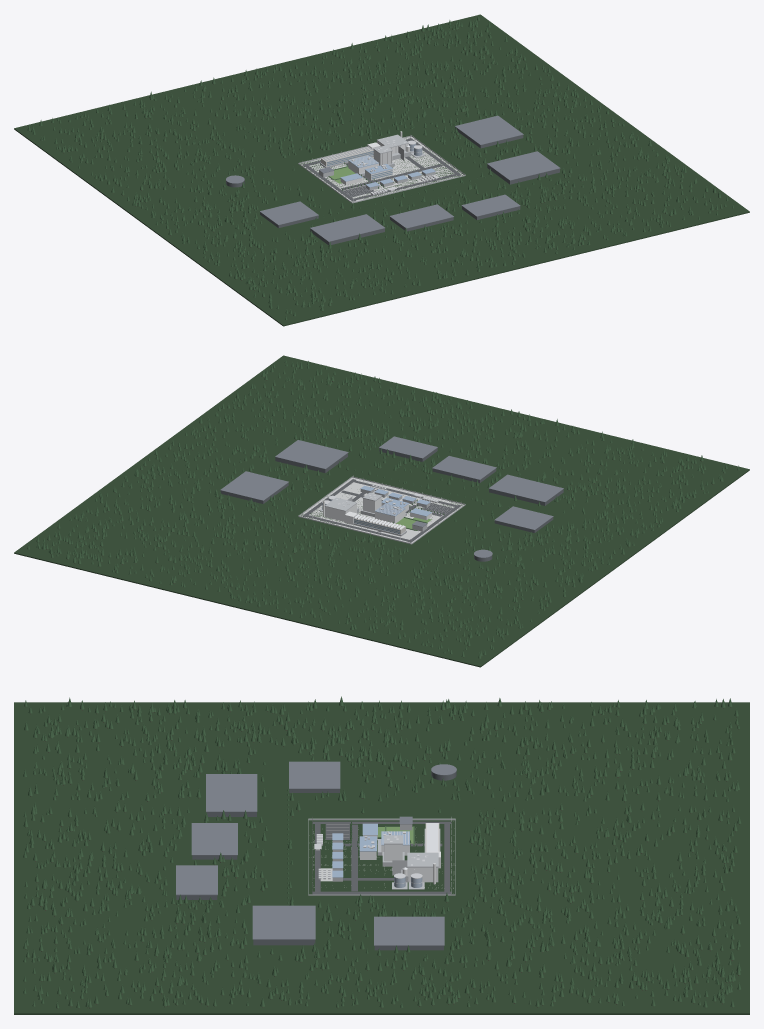
The model's file is plant_site.glb.
3 renders of one model, top to bottom at view 1: azimuth 30°, elevation 25°; view 2: azimuth 150°, elevation 25°; view 3: azimuth 270°, elevation 25°, orthographic. The views are drawn at different scales.
Parts seen in each view (by area): view 1: plant_site; view 2: plant_site; view 3: plant_site.
Part boxes in pixels (box(x1,y1,x2,y2)): plant_site: box(14, 14, 749, 326); plant_site: box(14, 355, 749, 667); plant_site: box(14, 696, 749, 1014).
Size of the model in its own units: 1400 by 49.55 by 1400.
